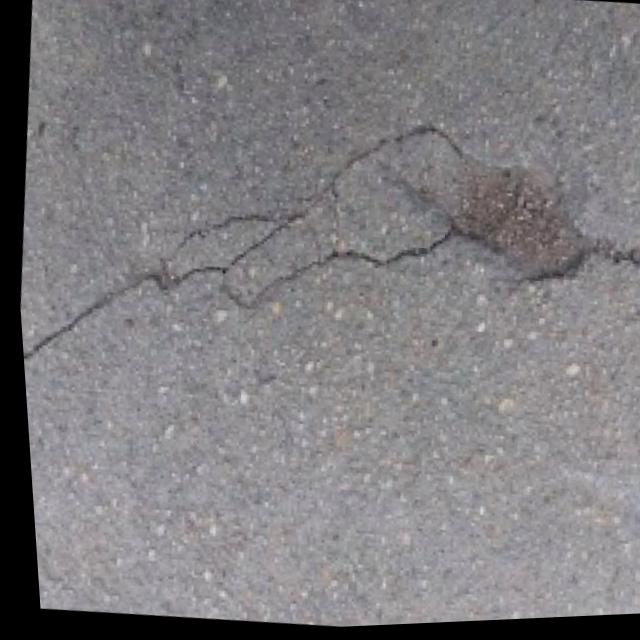Crack: (5, 64, 640, 459)
